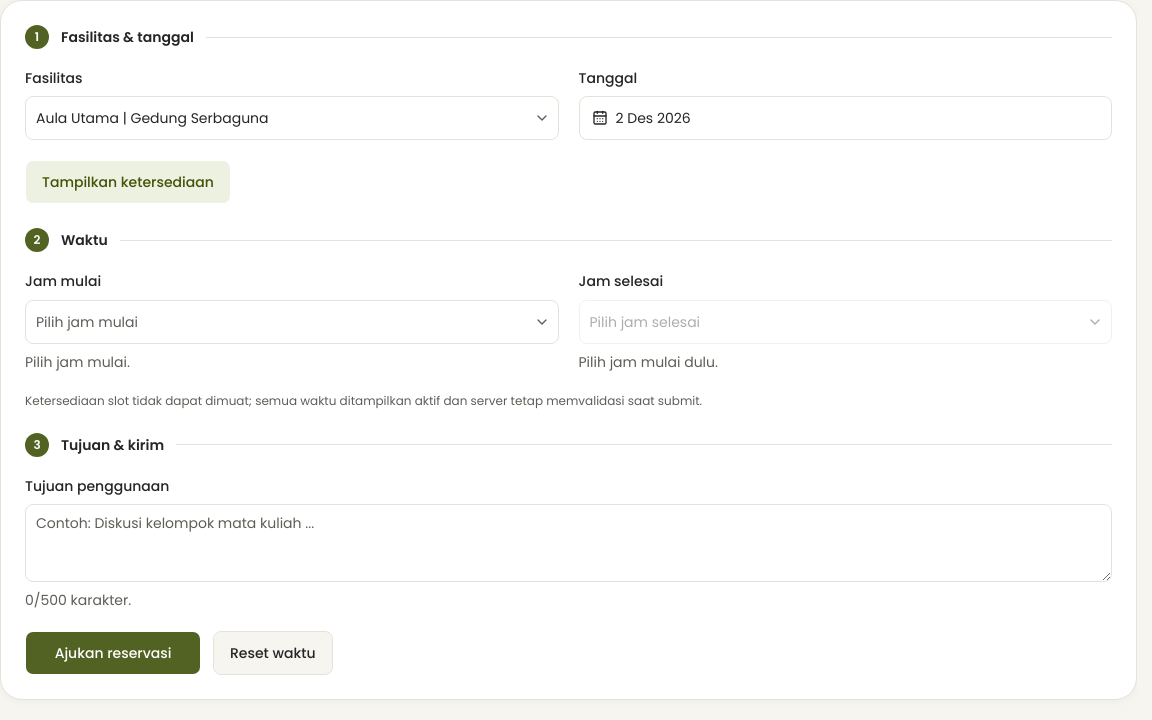
Test: ReservationForm label domain › memetakan galat validasi ke istilah domain tanpa nama field mentah
Click the dropdown labelled "jam mulai" at (87, 322), box left=25, top=300, right=558, bottom=344
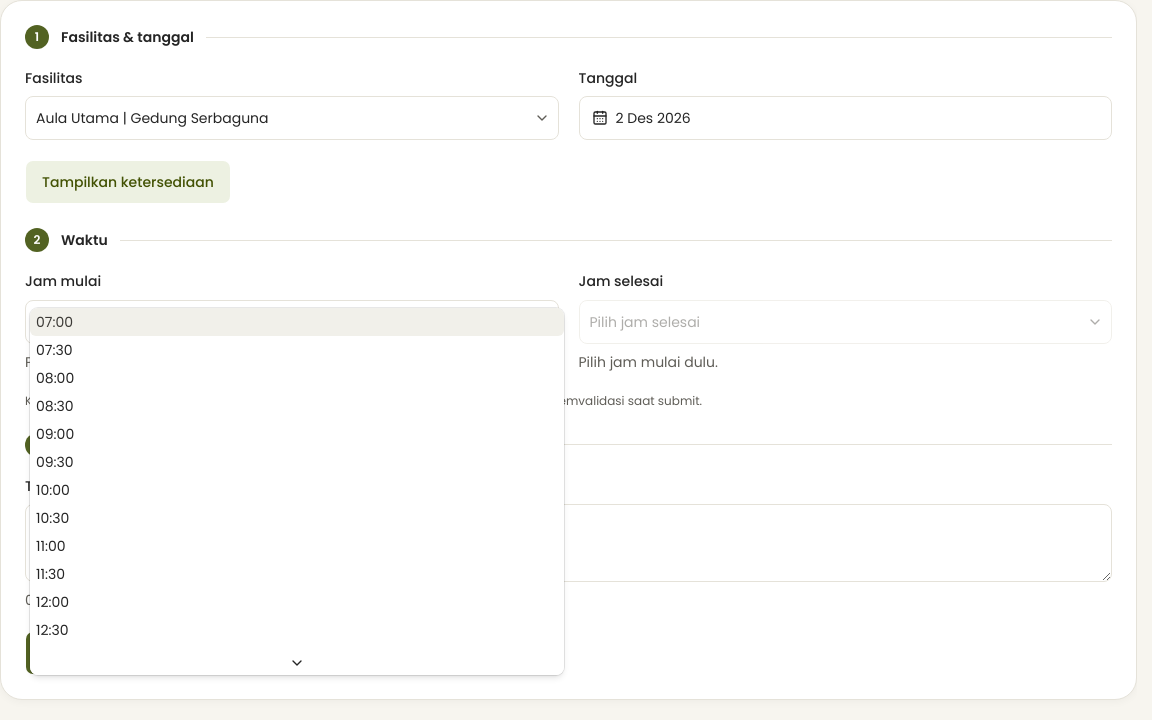
Click the option "09:00" at (55, 434), box left=36, top=424, right=74, bottom=444
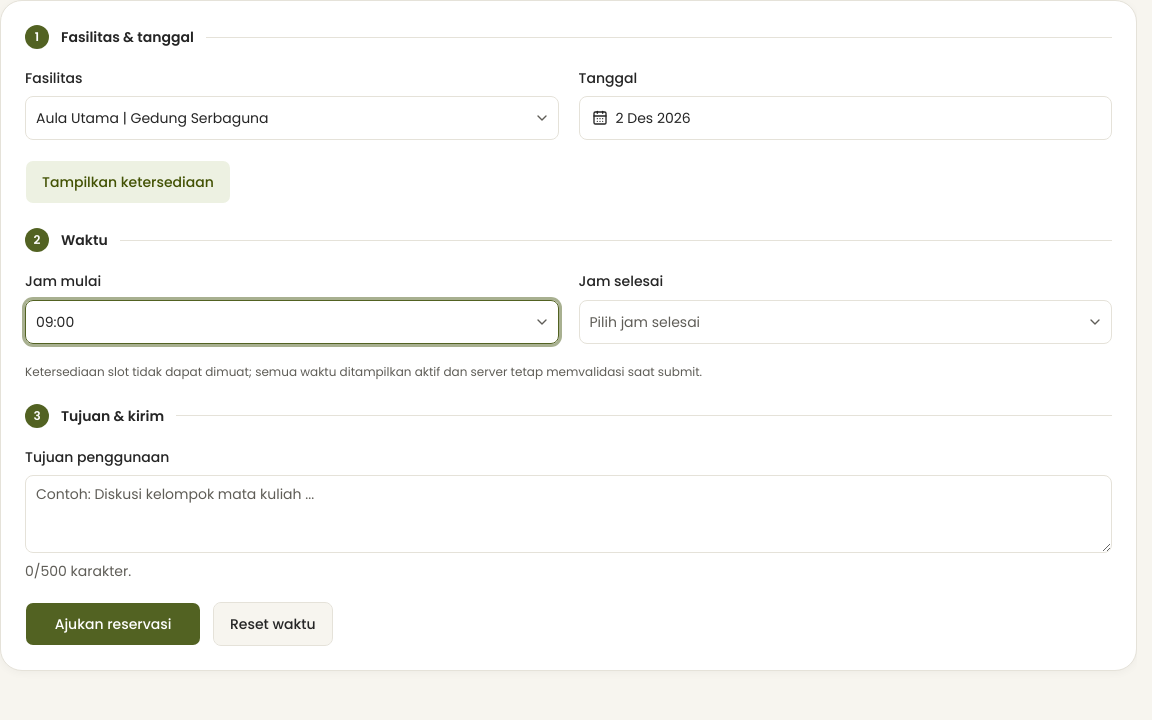
Click the dropdown labelled "jam selesai" at (645, 322), box left=578, top=300, right=1112, bottom=344
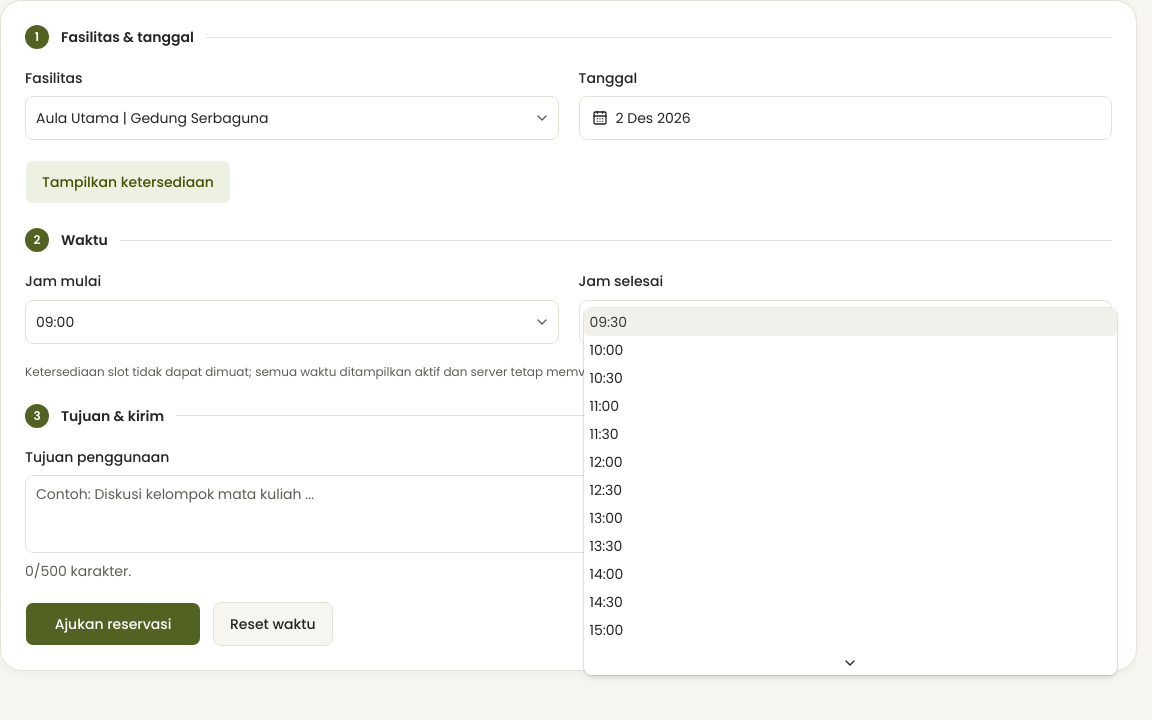
Click the option "10:00" at (606, 350), box left=590, top=340, right=623, bottom=360
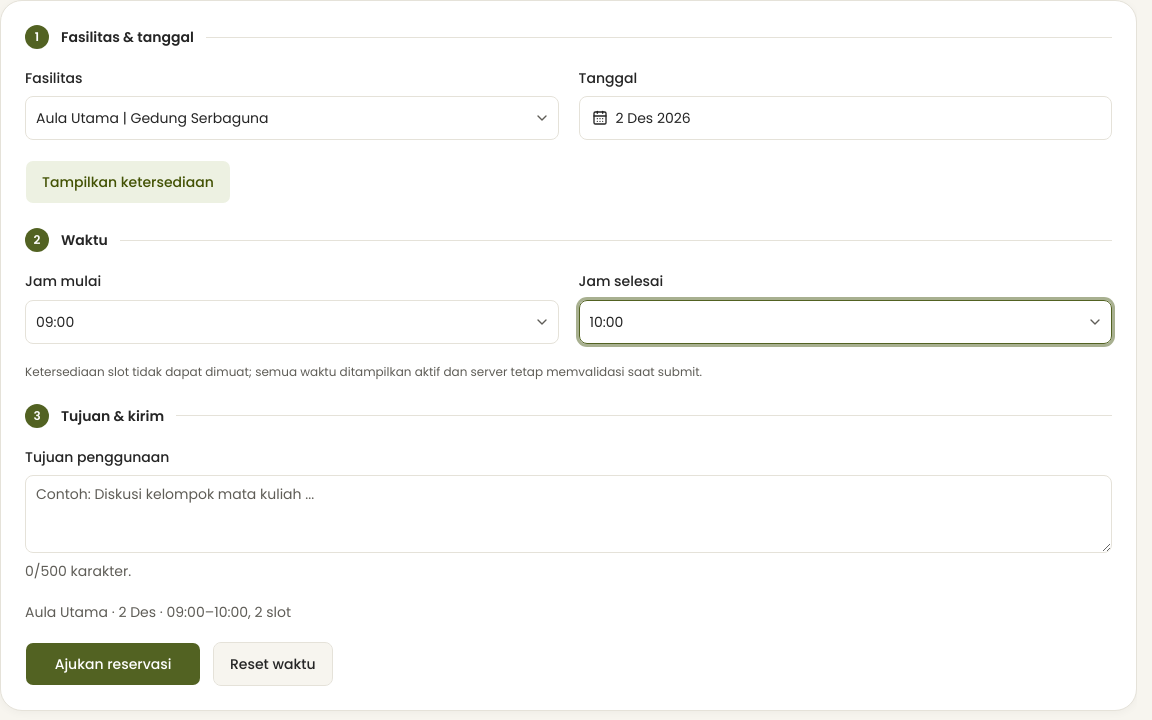
Type "Diskusi kelompok" into the text box labelled "Tujuan penggunaan" at (568, 514), box left=25, top=475, right=1112, bottom=553
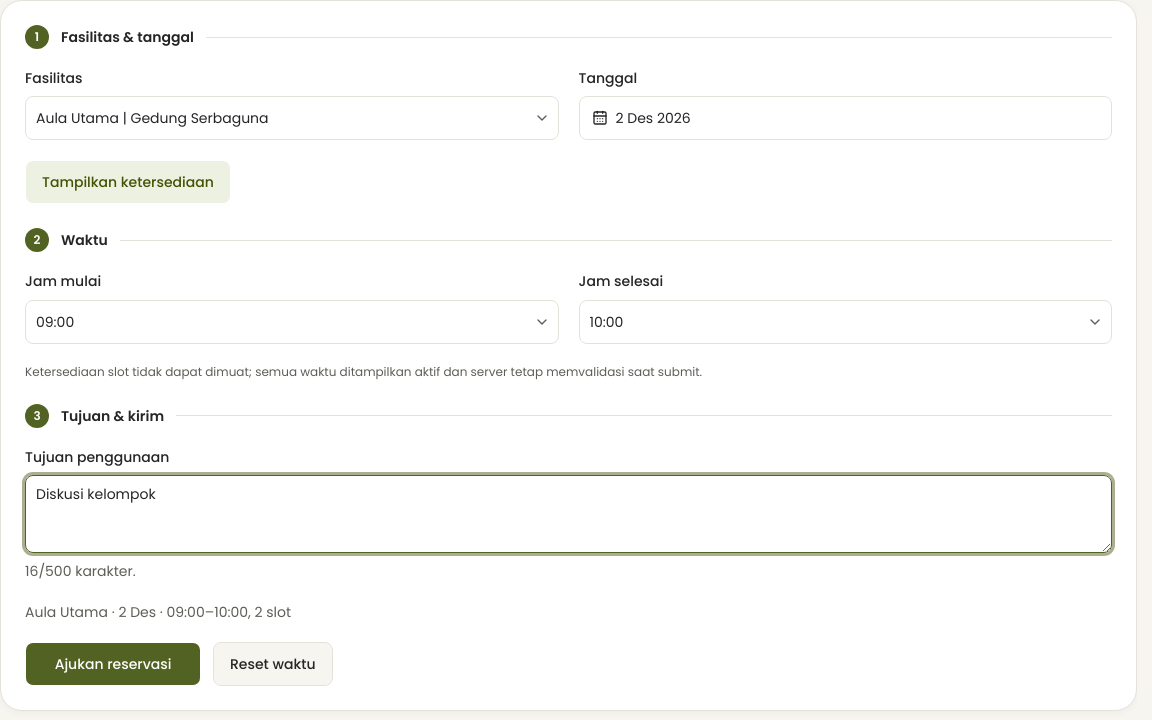
Click the button "Ajukan reservasi" at (113, 664), box left=25, top=642, right=201, bottom=686
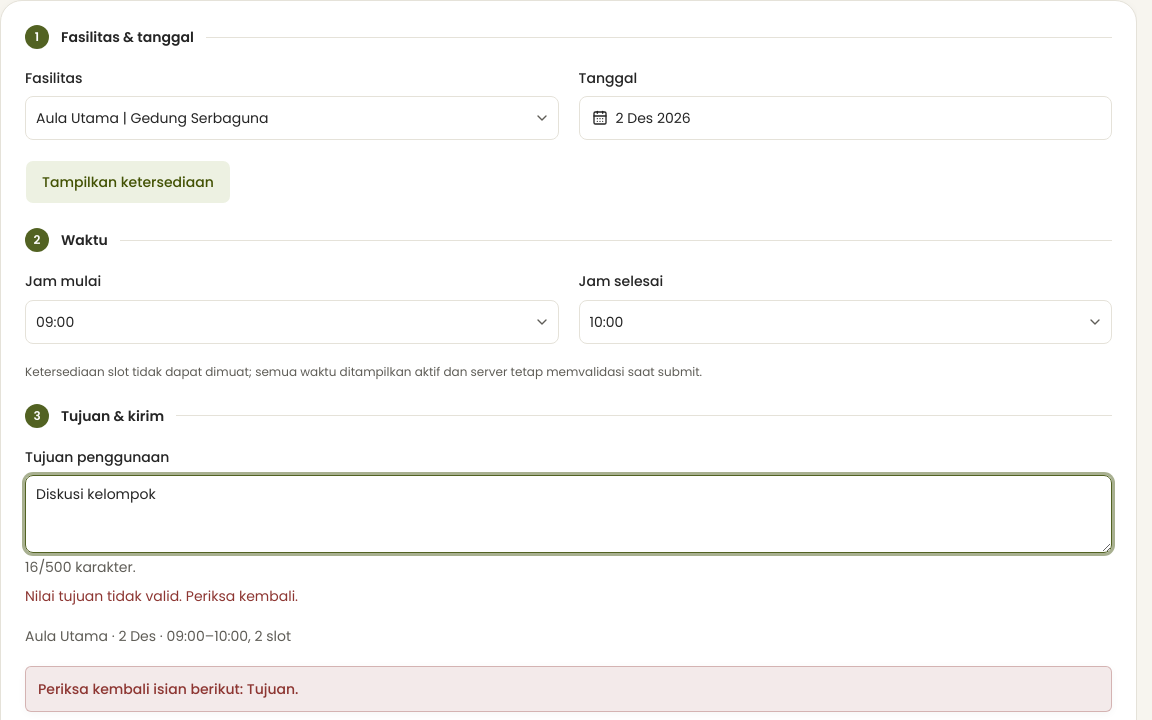
Expected: the text "Periksa kembali isian berikut: Tujuan." is shown, left=38, top=679, right=298, bottom=699
